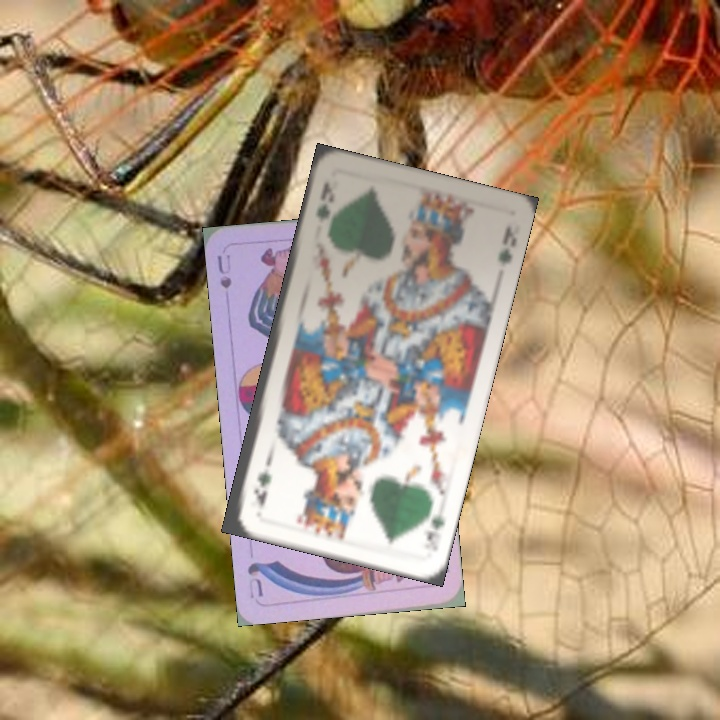GK: (419, 509, 447, 554), (312, 177, 337, 226)
SU: (213, 250, 234, 292)
